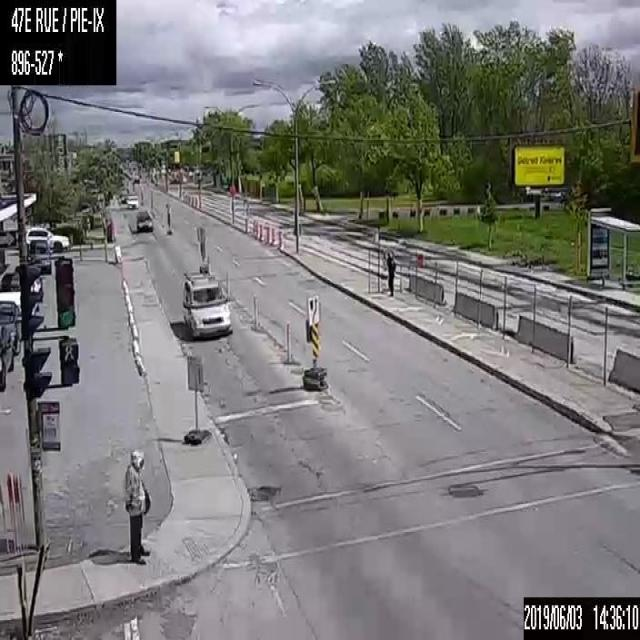construction: (284, 319, 291, 364), (252, 294, 258, 330), (270, 224, 277, 246), (278, 228, 284, 250), (263, 224, 270, 242), (252, 218, 258, 236), (225, 268, 229, 291), (259, 223, 262, 240), (194, 196, 197, 207)
pedestrian: (123, 450, 150, 566), (386, 252, 396, 295)
vehicle: (181, 272, 232, 336), (0, 270, 39, 317), (25, 224, 70, 253), (0, 300, 21, 355), (0, 324, 13, 391), (26, 239, 49, 274), (135, 208, 154, 231), (126, 193, 138, 208)
